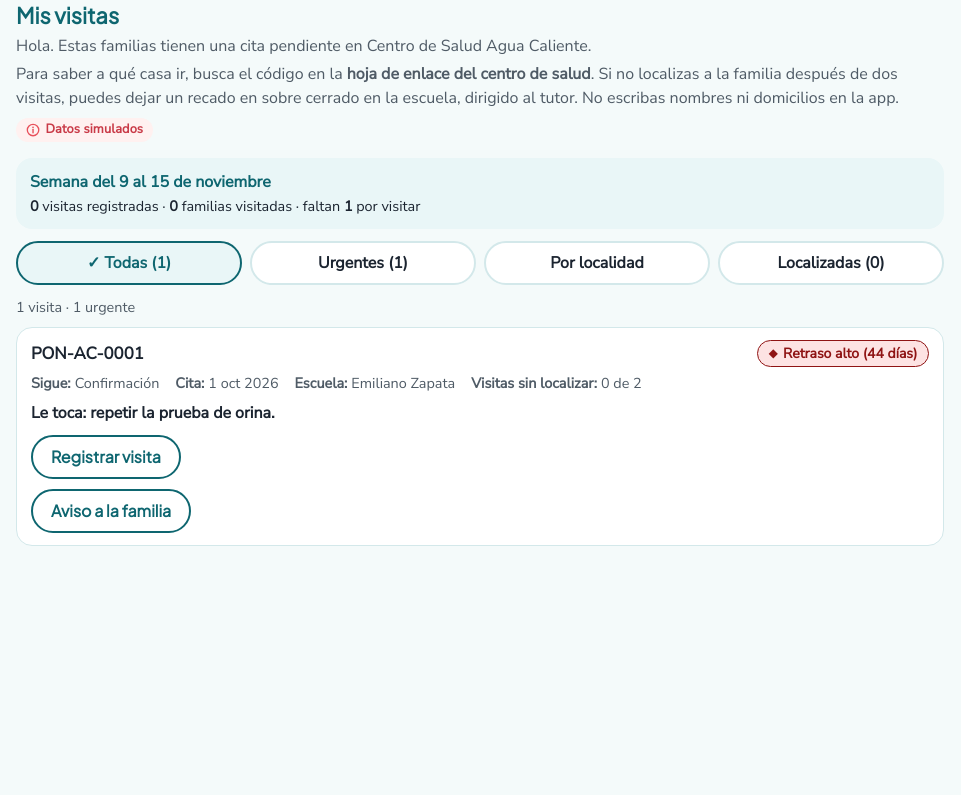
it: Aviso a la familia (HU06) › si la lista de voces nunca carga, el tiempo límite también avisa
Click the button "Aviso a la familia" at x=111, y=511, box [31,489,191,533]
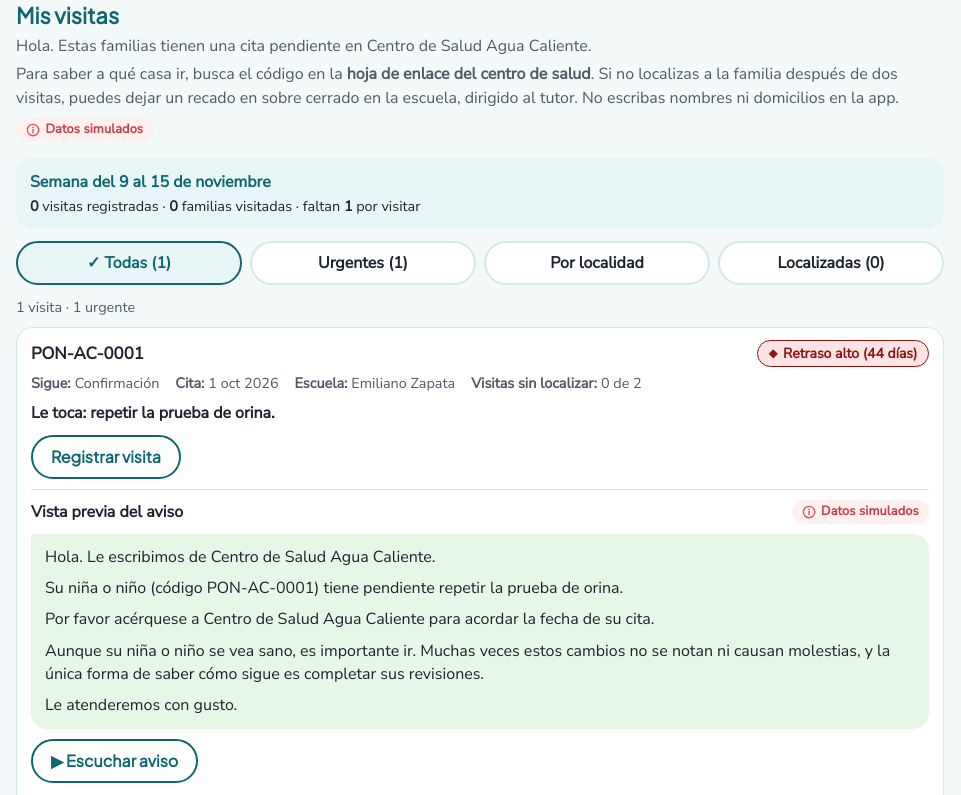
Click the button "▶ Escuchar aviso" at x=115, y=761, box [31,739,198,783]
Wait 5000 ms
(page scrolled)
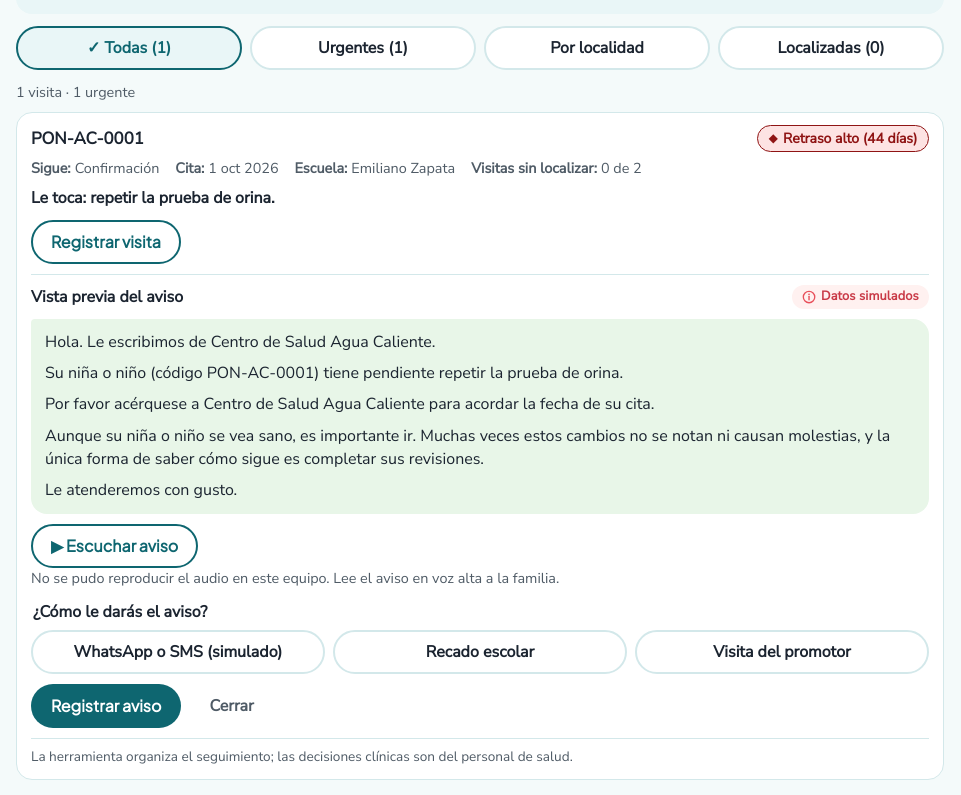
Expected: the message shows "No se pudo reproducir el audio en este equipo. Lee el aviso en voz alta a la familia.", [31,568,559,588]
